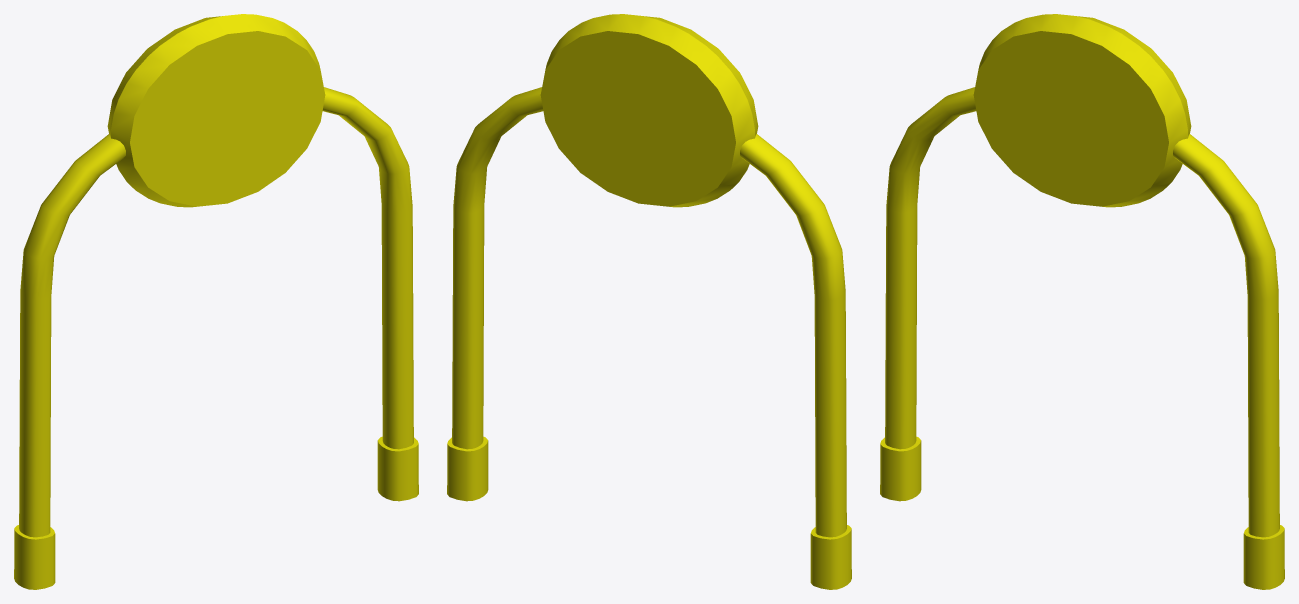
Rendered from Gate (2).fbx.
3 renders of one model, left to right at view 1: azimuth 30°, elevation 25°; view 2: azimuth 150°, elevation 25°; view 3: azimuth 330°, elevation 25°, orthographic.
Visible parts, largest first — view 1: pCylinder150; view 2: pCylinder150; view 3: pCylinder150.
Boxes of the visible parts, x1,y1,x2,y2 form: pCylinder150: [14, 14, 418, 589]; pCylinder150: [447, 14, 851, 589]; pCylinder150: [880, 14, 1284, 589].
Size of the model in its own units: 519 by 649 by 50.36.
